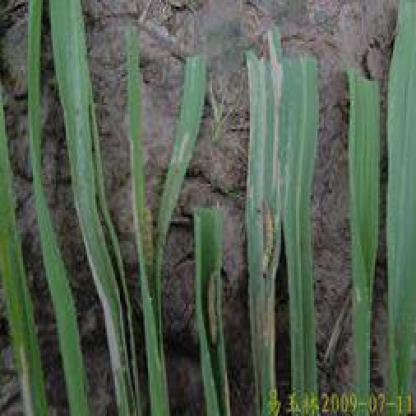leaf-folder: (132, 188, 170, 304), (192, 250, 226, 358), (252, 193, 282, 292)
